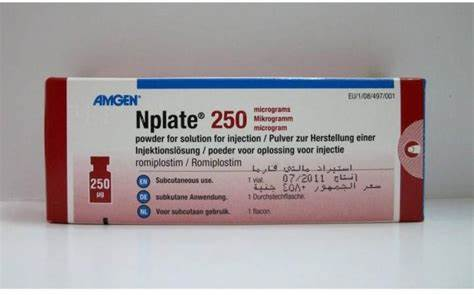Medicine: (38, 71, 429, 228)
